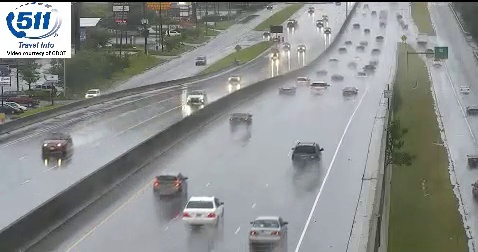car: (182, 196, 224, 224), (248, 216, 287, 244), (153, 172, 186, 198), (292, 143, 321, 164)
